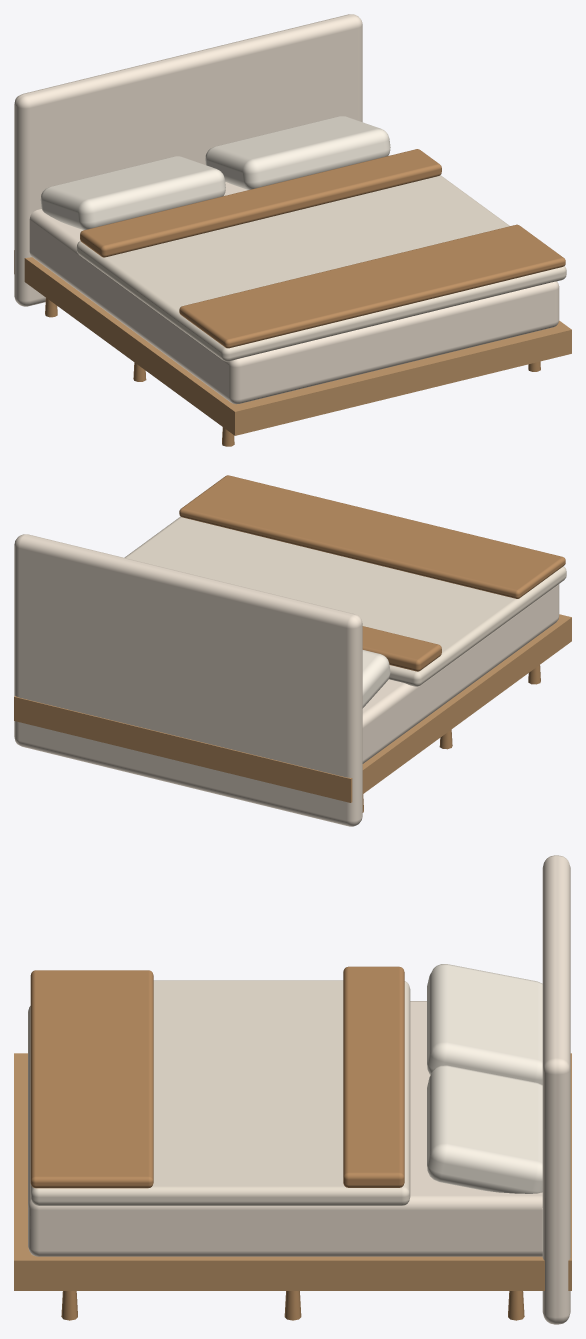
The model's file is bed-lite.glb.
The picture shows the model from 3 angles, top to bottom: view 1: azimuth 30°, elevation 25°; view 2: azimuth 150°, elevation 25°; view 3: azimuth 270°, elevation 25°; orthographic projection. The views are drawn at different scales.
Parts seen in each view (by area): view 1: material-2-upholstery, material-5-accent, material-3-fabric, material-1-frame, material-4-cushion, material-0-leg; view 2: material-2-upholstery, material-3-fabric, material-5-accent, material-1-frame, material-4-cushion; view 3: material-3-fabric, material-2-upholstery, material-5-accent, material-4-cushion, material-1-frame, material-0-leg.
Boxes of the visible parts, x1,y1,x2,y2 form: material-2-upholstery: (14,14,559,404); material-5-accent: (80,149,565,348); material-3-fabric: (76,175,566,361); material-1-frame: (14,250,571,435); material-4-cushion: (40,116,390,230); material-0-leg: (45,298,540,446); material-2-upholstery: (14,534,559,826); material-3-fabric: (124,516,566,686); material-5-accent: (179,475,565,671); material-1-frame: (14,614,571,802); material-4-cushion: (362,650,390,708); material-3-fabric: (30,980,410,1205); material-2-upholstery: (28,855,570,1324); material-5-accent: (30,966,404,1188); material-4-cushion: (427,964,542,1193); material-1-frame: (14,1053,571,1290); material-0-leg: (61,1291,524,1320).
Size of the model in its own units: 1.8 by 1.05 by 2.
